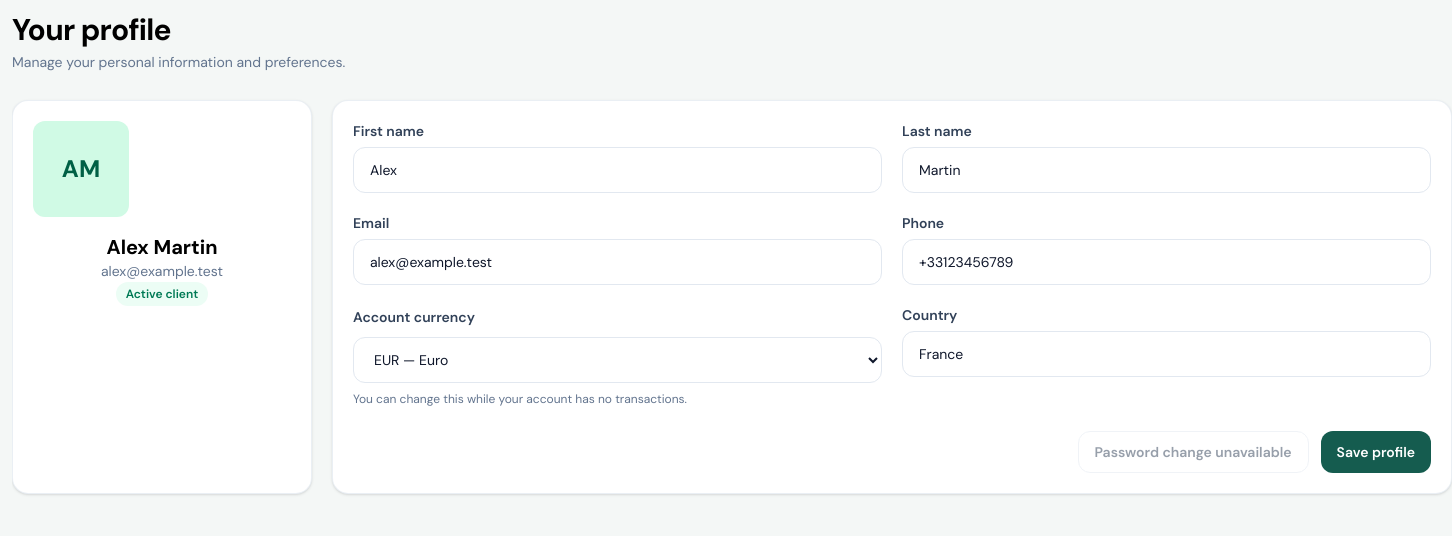
Test: Profile currency preference › shows backend rejection without pretending the selection was saved
Select "USD — US Dollar" in the dropdown labelled "Account currency" at (618, 360), box [353,337,882,383]
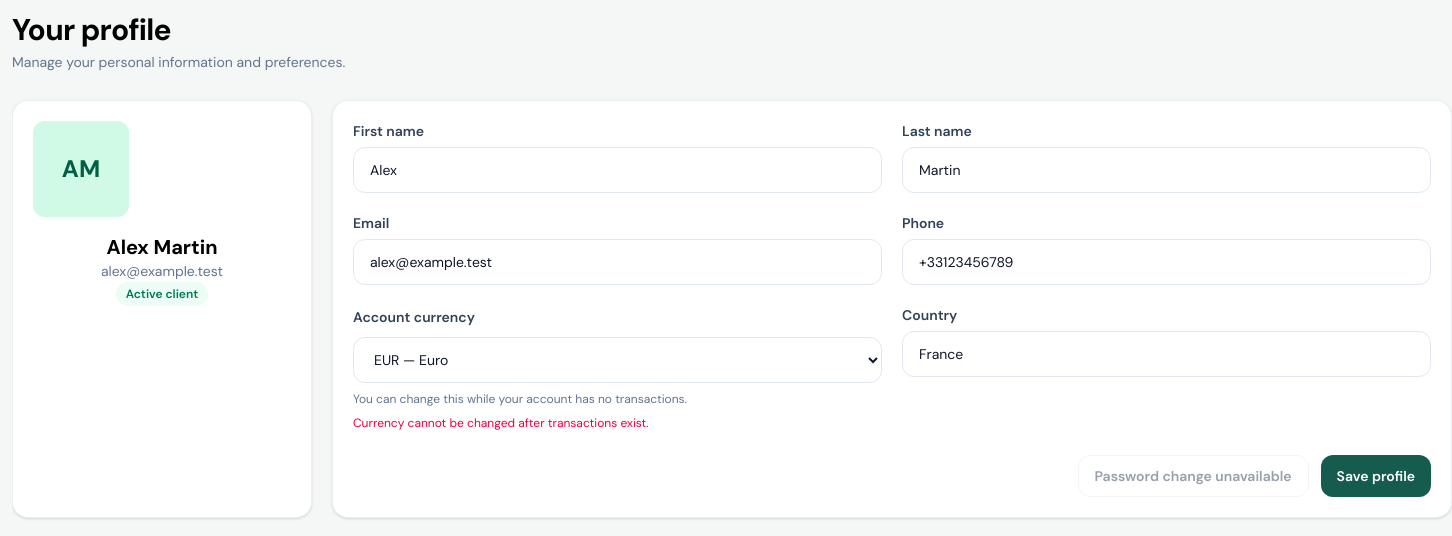
Now the message reads "Currency cannot be changed after transactions exist.", box [353,415,649,431]
